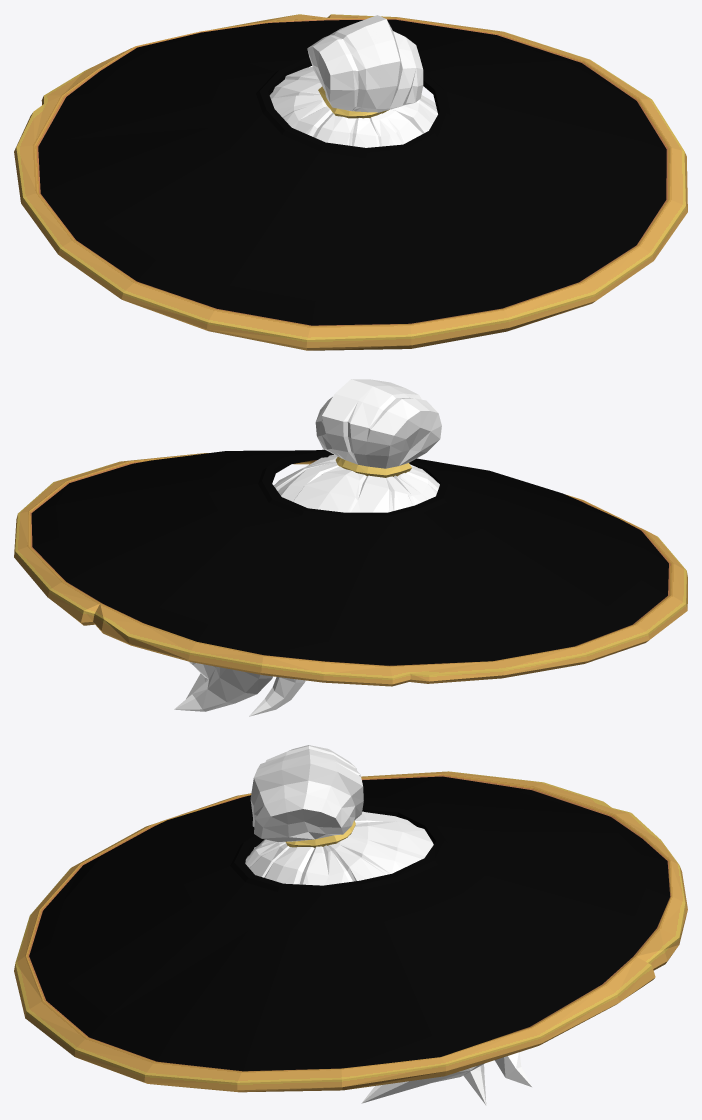
File: CharSkyKid_Hair_AP09BambooHat_01.glb
3 views of the same model, one above another, from view 1: azimuth 30°, elevation 25°; view 2: azimuth 150°, elevation 25°; view 3: azimuth 270°, elevation 25° (orthographic). The views are drawn at different scales.
Parts seen in each view (by area): view 1: CharSkyKid_Hair_AP09BambooHat_01; view 2: CharSkyKid_Hair_AP09BambooHat_01; view 3: CharSkyKid_Hair_AP09BambooHat_01.
Boxes of the visible parts, <box> form: CharSkyKid_Hair_AP09BambooHat_01: <box>14,14,687,350</box>; CharSkyKid_Hair_AP09BambooHat_01: <box>14,379,687,716</box>; CharSkyKid_Hair_AP09BambooHat_01: <box>14,745,687,1105</box>.
Size of the model in its own units: 7.63 by 3.67 by 7.02.
Materials: 1 (1 with a texture image).
